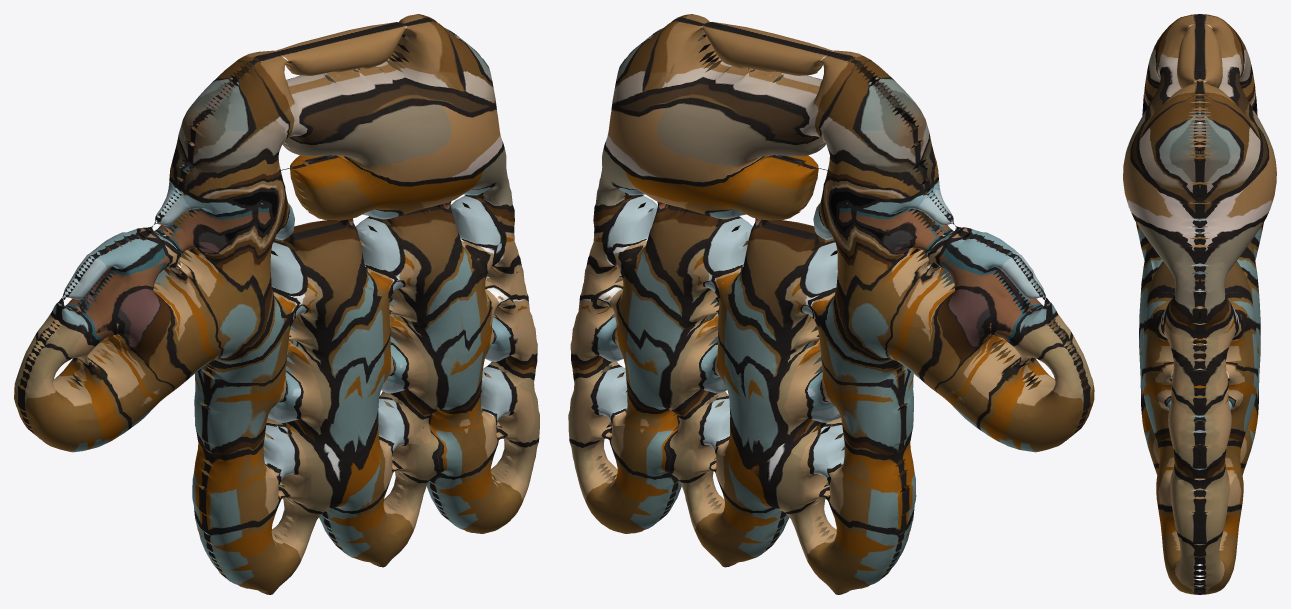
The model's file is gripper_hand.glb.
3 views of the same model, side by side, from view 1: azimuth 30°, elevation 25°; view 2: azimuth 150°, elevation 25°; view 3: azimuth 270°, elevation 25° (orthographic). The views are drawn at different scales.
Visible parts, largest first — view 1: gripper_hand; view 2: gripper_hand; view 3: gripper_hand.
Part boxes in pixels (left/top/right/bottom): gripper_hand: left=14, top=14, right=539, bottom=594; gripper_hand: left=568, top=14, right=1094, bottom=594; gripper_hand: left=1123, top=14, right=1276, bottom=594.
Bounding box in the file's own units: 0.9887 × 0.9716 × 0.282.
1 material, 1 textured.
